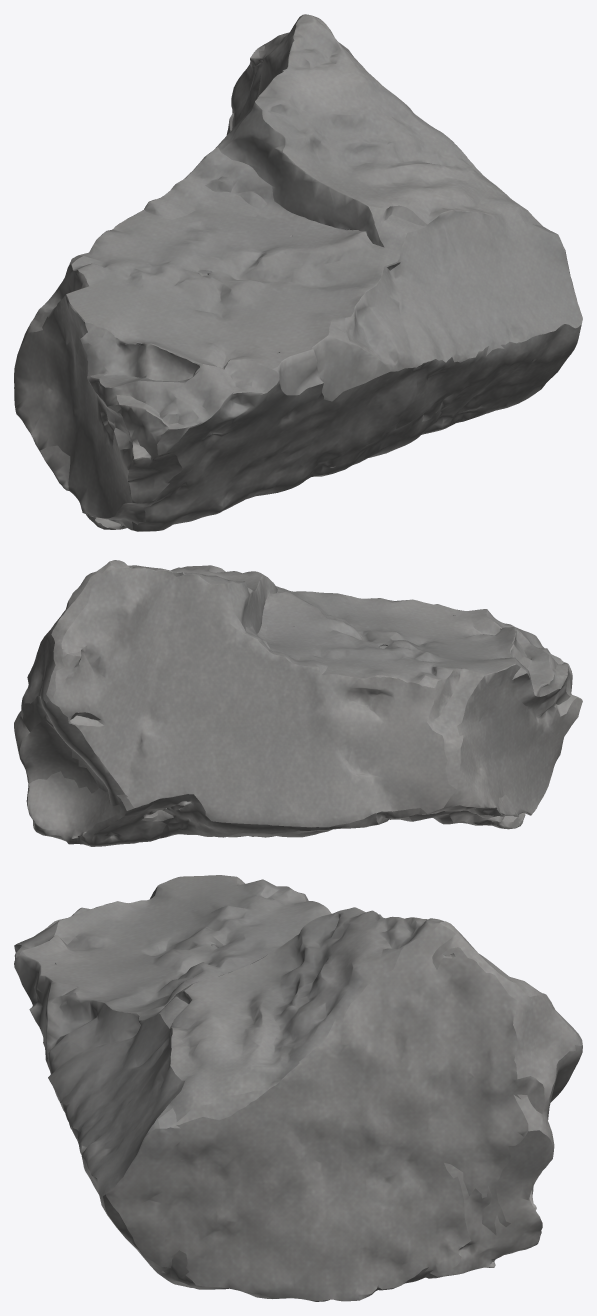
File: tex_mesh.glb
The picture shows the model from 3 angles, top to bottom: view 1: azimuth 30°, elevation 25°; view 2: azimuth 150°, elevation 25°; view 3: azimuth 270°, elevation 25°; orthographic projection. The views are drawn at different scales.
Parts seen in each view (by area): view 1: world; view 2: world; view 3: world.
Part boxes in pixels (<box>): world: <box>14,14,582,531</box>; world: <box>14,560,582,846</box>; world: <box>14,875,582,1301</box>.
Size of the model in its own units: 0.12 by 0.0782 by 0.12.
Materials: 1 (1 with a texture image).
